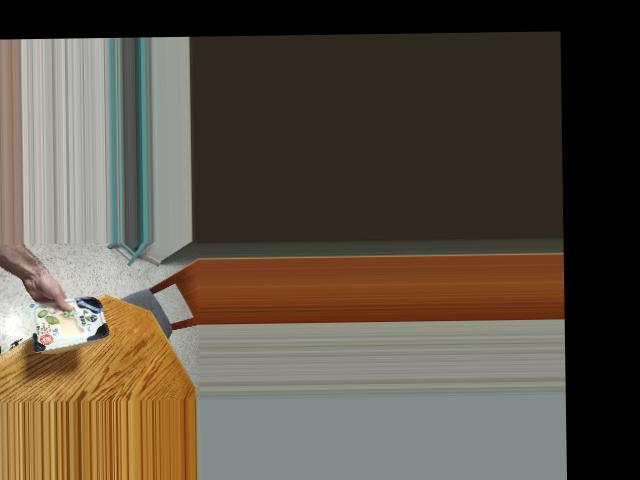cheese: (31, 294, 108, 353)
